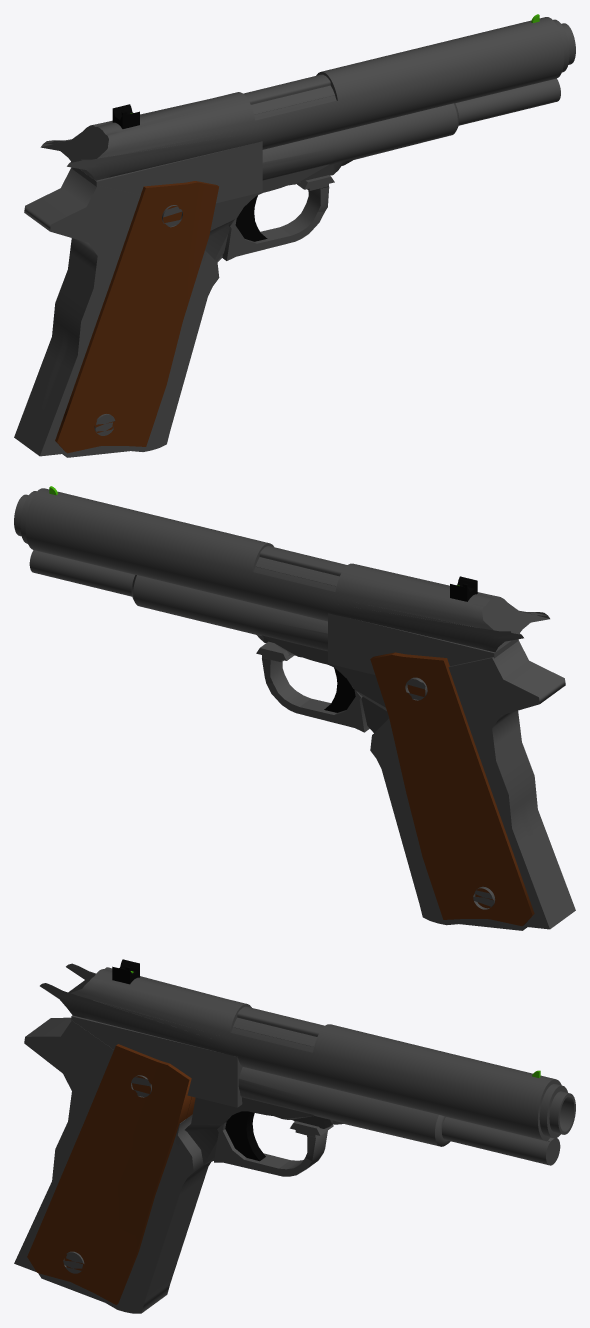
Rendered from 1911_Pistol_Low_Poly.glb.
3 renders of one model, top to bottom at view 1: azimuth 30°, elevation 25°; view 2: azimuth 150°, elevation 25°; view 3: azimuth 330°, elevation 25°, orthographic.
Parts seen in each view (by area): view 1: Cylinder_Material.003_0, Cylinder_Material.004_0, Cylinder_Material.005_0; view 2: Cylinder_Material.003_0, Cylinder_Material.004_0, Cylinder_Material.005_0; view 3: Cylinder_Material.003_0, Cylinder_Material.004_0, Cylinder_Material.005_0, Cylinder_Material.006_0.
Boxes of the visible parts, box(x1,y1,x2,y2) form: Cylinder_Material.003_0: box(14, 17, 575, 457); Cylinder_Material.004_0: box(55, 181, 218, 453); Cylinder_Material.005_0: box(235, 195, 267, 241); Cylinder_Material.003_0: box(14, 488, 575, 930); Cylinder_Material.004_0: box(370, 652, 534, 926); Cylinder_Material.005_0: box(324, 667, 355, 712); Cylinder_Material.003_0: box(14, 963, 575, 1313); Cylinder_Material.004_0: box(27, 1044, 195, 1304); Cylinder_Material.005_0: box(225, 1111, 265, 1161); Cylinder_Material.006_0: box(112, 959, 139, 984).
Size of the model in its own units: 4.87 by 2.88 by 0.5195.
